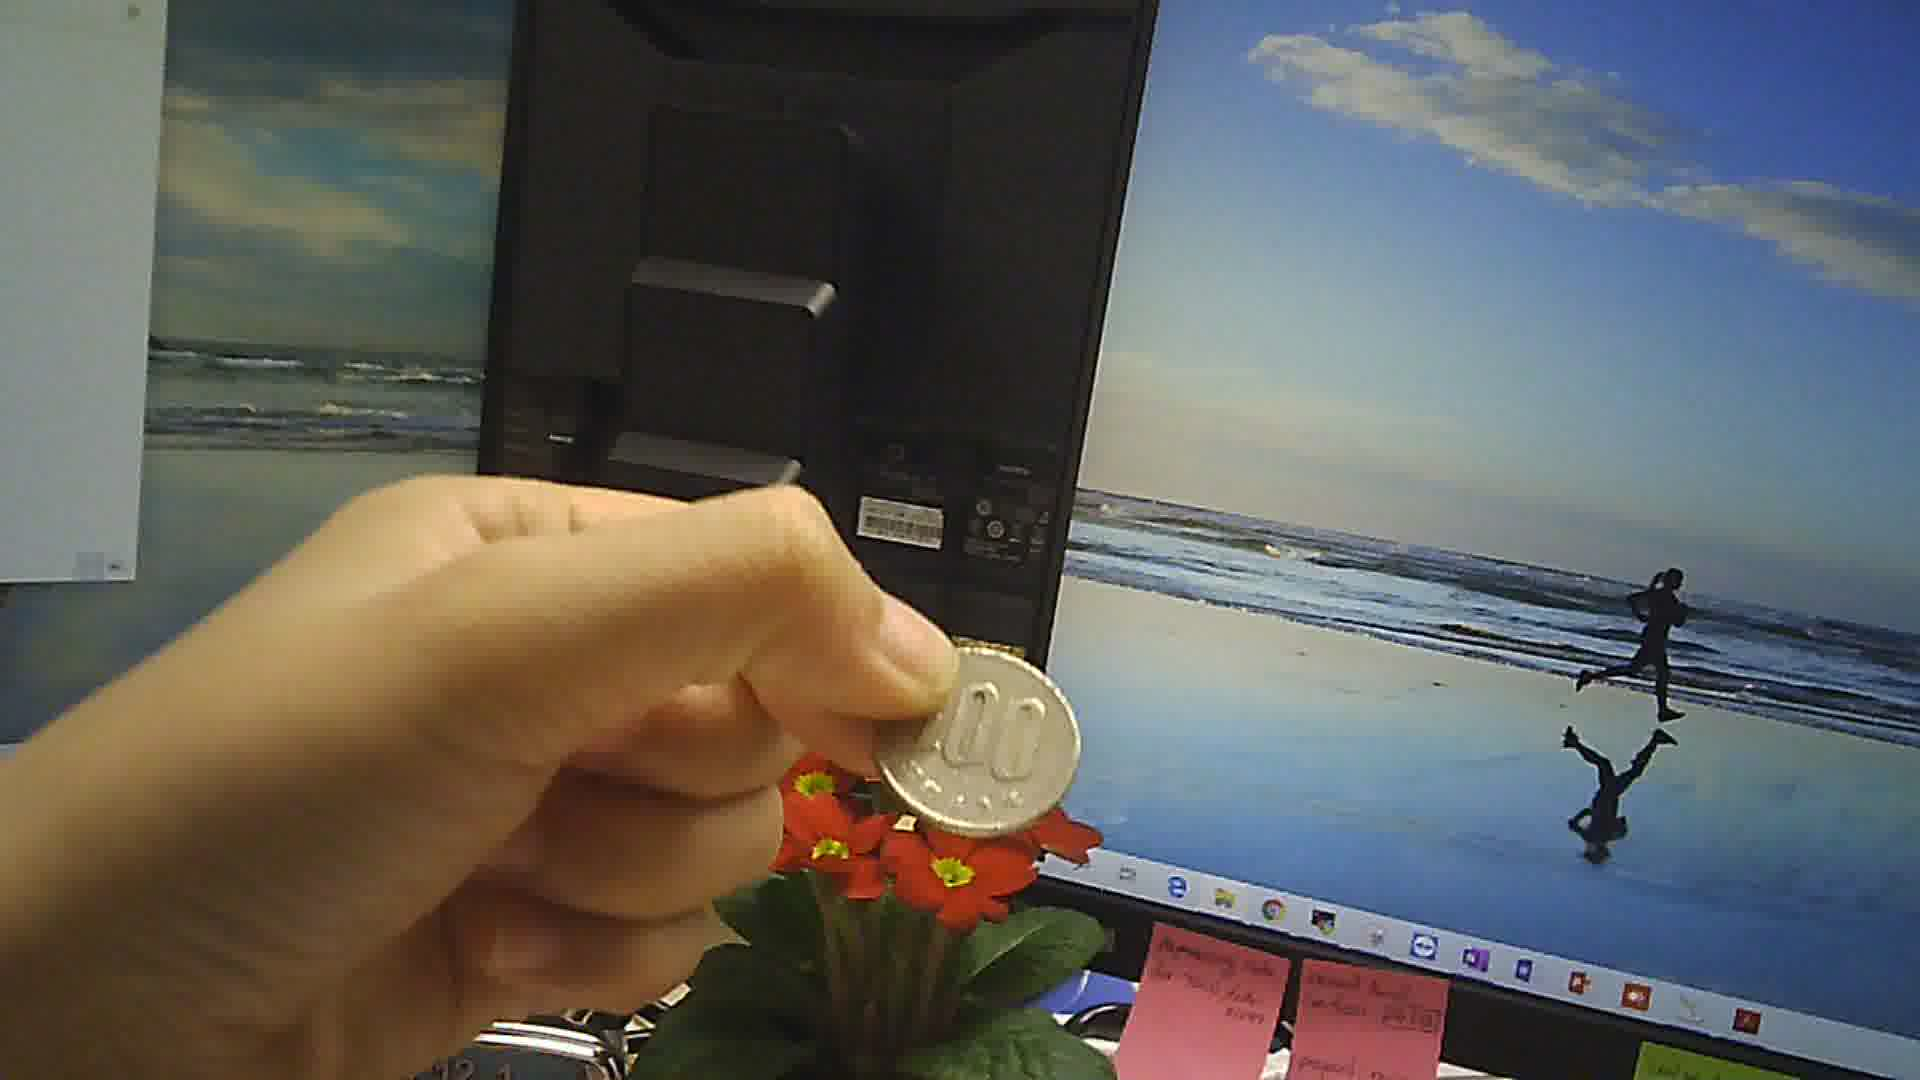100 Yen: (876, 638, 1075, 841)
